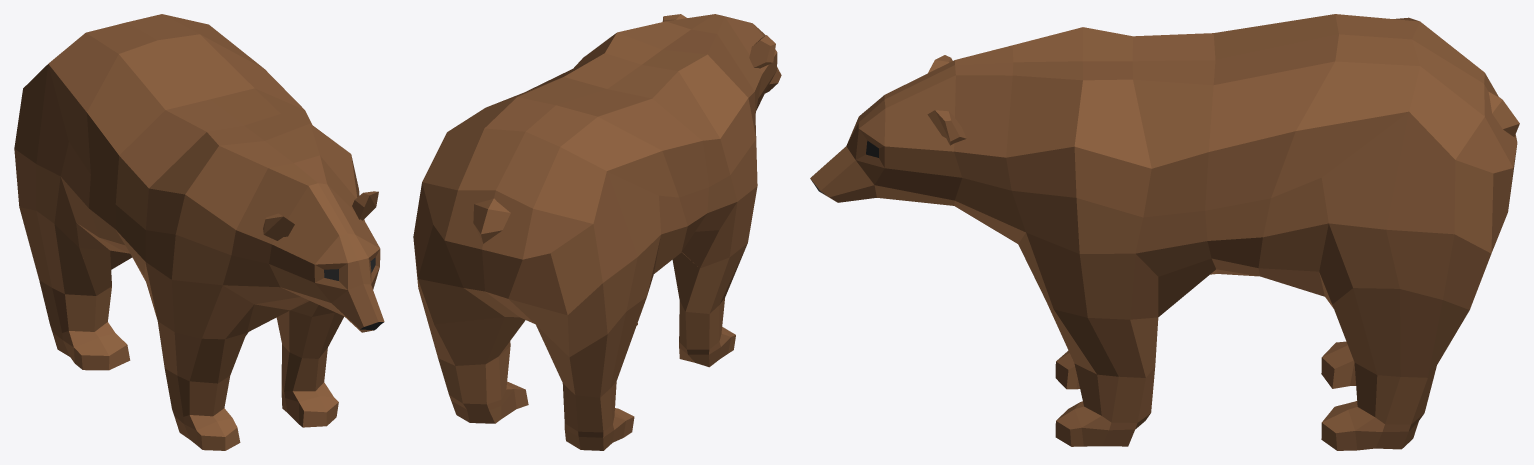
The model's file is bear_brown.glb.
The picture shows the model from 3 angles, left to right: view 1: azimuth 30°, elevation 25°; view 2: azimuth 150°, elevation 25°; view 3: azimuth 270°, elevation 25°; orthographic projection. The views are drawn at different scales.
Parts seen in each view (by area): view 1: bear_brown; view 2: bear_brown; view 3: bear_brown.
Boxes of the visible parts, box(x1,y1,x2,y2) form: bear_brown: box(14, 14, 384, 450); bear_brown: box(413, 14, 781, 450); bear_brown: box(810, 14, 1519, 450).
Size of the model in its own units: 1.42 by 2.07 by 3.57.
